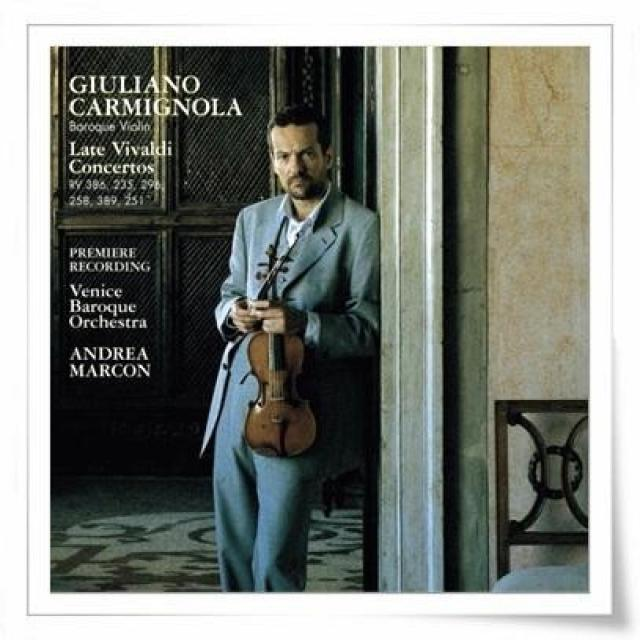violin: (242, 243, 320, 465)
